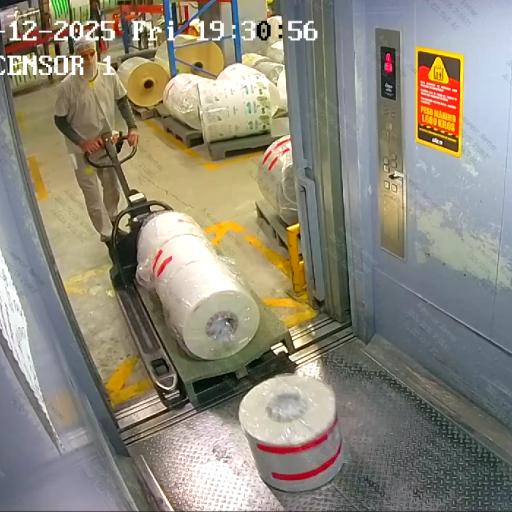rollos caidos: (108, 224, 390, 490)
